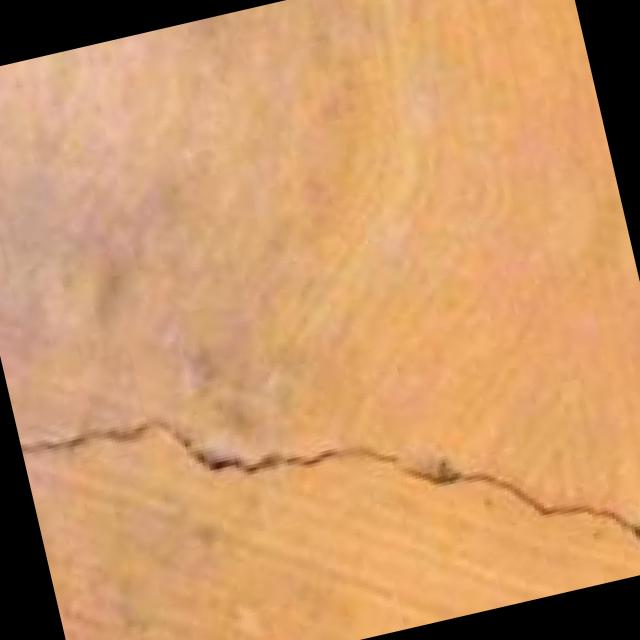crack: (3, 215, 640, 640)
